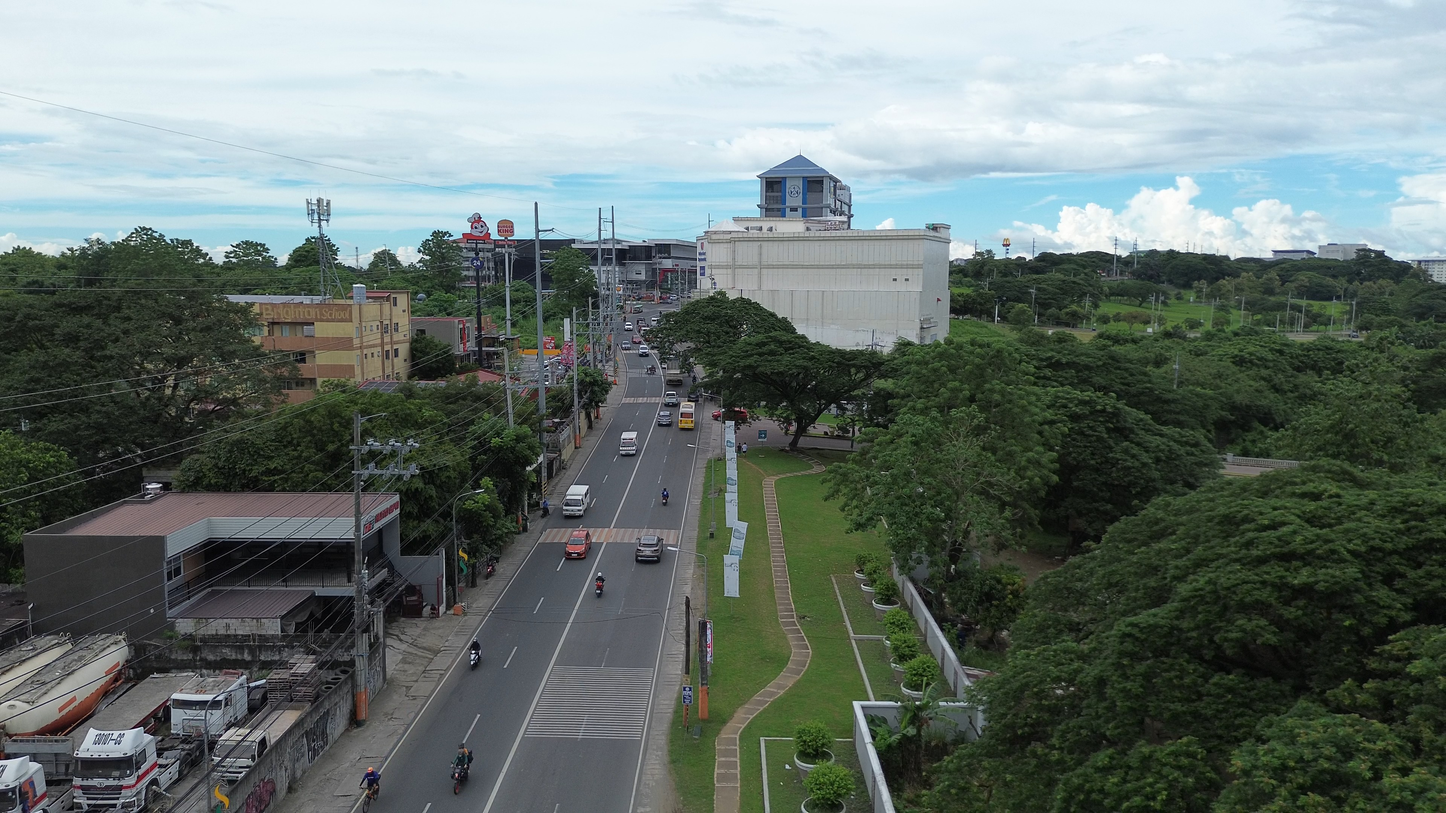car: (564, 528, 592, 558), (635, 536, 662, 562), (712, 408, 748, 421), (638, 344, 650, 356), (624, 321, 634, 332), (631, 335, 643, 344)
motorcycle: (451, 765, 468, 794), (484, 555, 497, 578), (469, 650, 479, 668), (595, 580, 603, 597)
truck: (72, 728, 202, 813), (0, 756, 70, 813), (664, 356, 684, 384)
vehicle: (4, 673, 197, 789), (0, 633, 128, 736), (213, 703, 307, 781), (170, 670, 247, 737), (562, 484, 590, 516), (712, 408, 749, 422), (451, 764, 468, 794), (665, 356, 683, 384), (677, 402, 695, 429), (619, 431, 638, 455), (656, 411, 673, 426), (663, 391, 680, 406), (595, 574, 604, 597), (649, 315, 659, 326), (631, 335, 643, 344), (631, 304, 643, 313)
